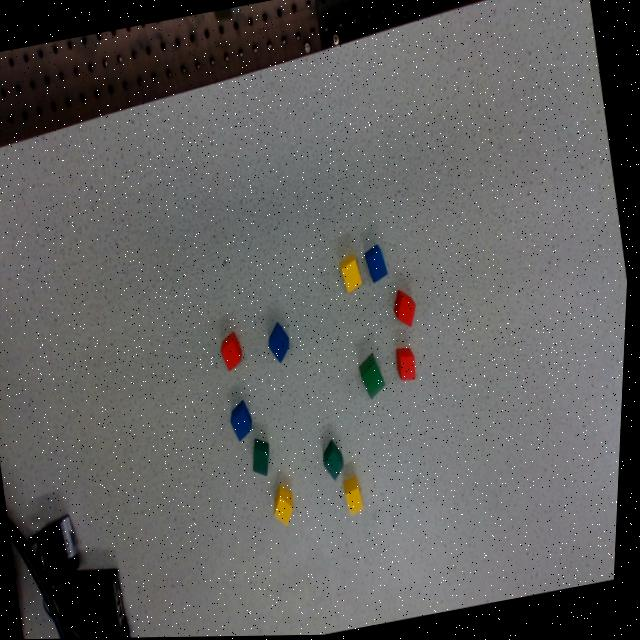blue_cube: (264, 323, 300, 363), (227, 401, 262, 442), (365, 245, 391, 284)
green_cube: (358, 354, 390, 400), (324, 440, 350, 482), (257, 440, 272, 475)
red_cube: (394, 292, 419, 328), (399, 349, 419, 383)
yellow_cube: (273, 486, 302, 527), (346, 477, 369, 516), (341, 258, 365, 292)
